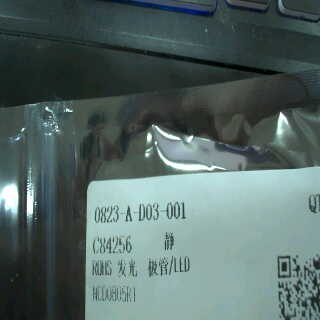LED: (114, 253, 198, 280)
